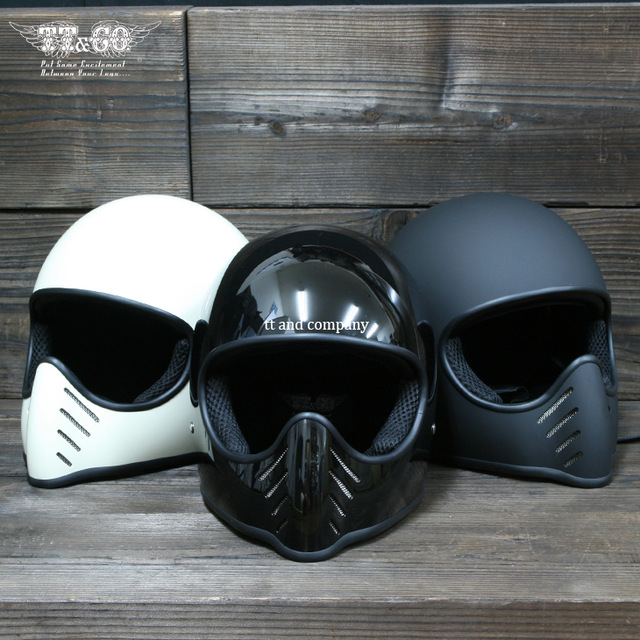with_helmet: (200, 227, 433, 564), (381, 185, 621, 486), (18, 192, 249, 502)
